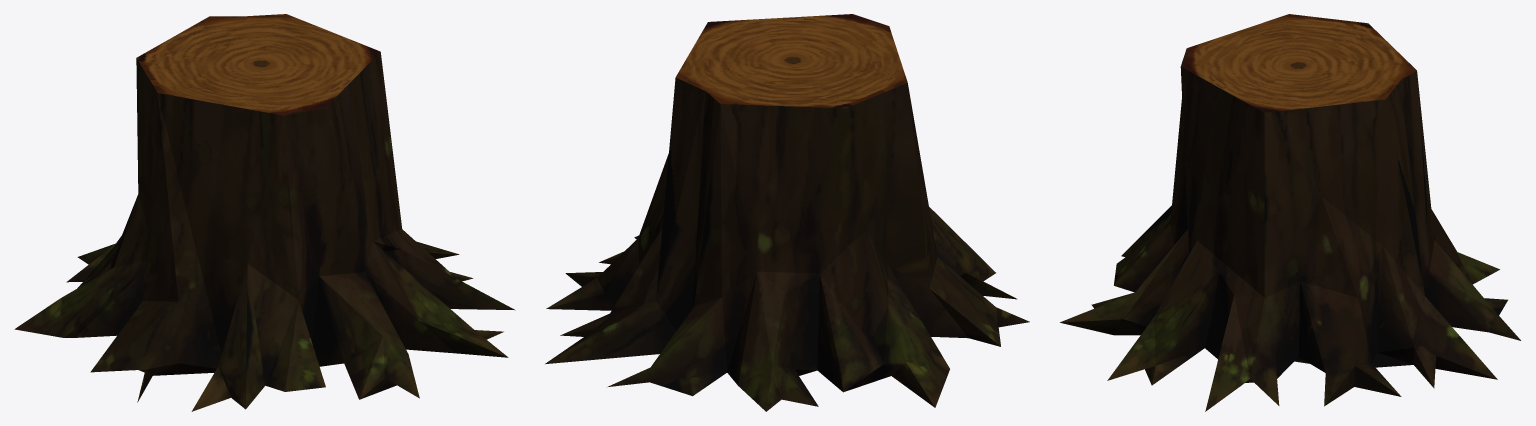
Rendered from stump_lod1.glb.
3 renders of one model, left to right at view 1: azimuth 30°, elevation 25°; view 2: azimuth 150°, elevation 25°; view 3: azimuth 270°, elevation 25°, orthographic. The views are drawn at different scales.
Visible parts, largest first — view 1: geometry_0; view 2: geometry_0; view 3: geometry_0.
Boxes of the visible parts, <box> form: geometry_0: <box>14,14,515,411</box>; geometry_0: <box>545,14,1029,411</box>; geometry_0: <box>1060,14,1520,411</box>.
Bounding box in the file's own units: 1.18 × 0.7265 × 1.21.
Materials: 1 (1 with a texture image).
